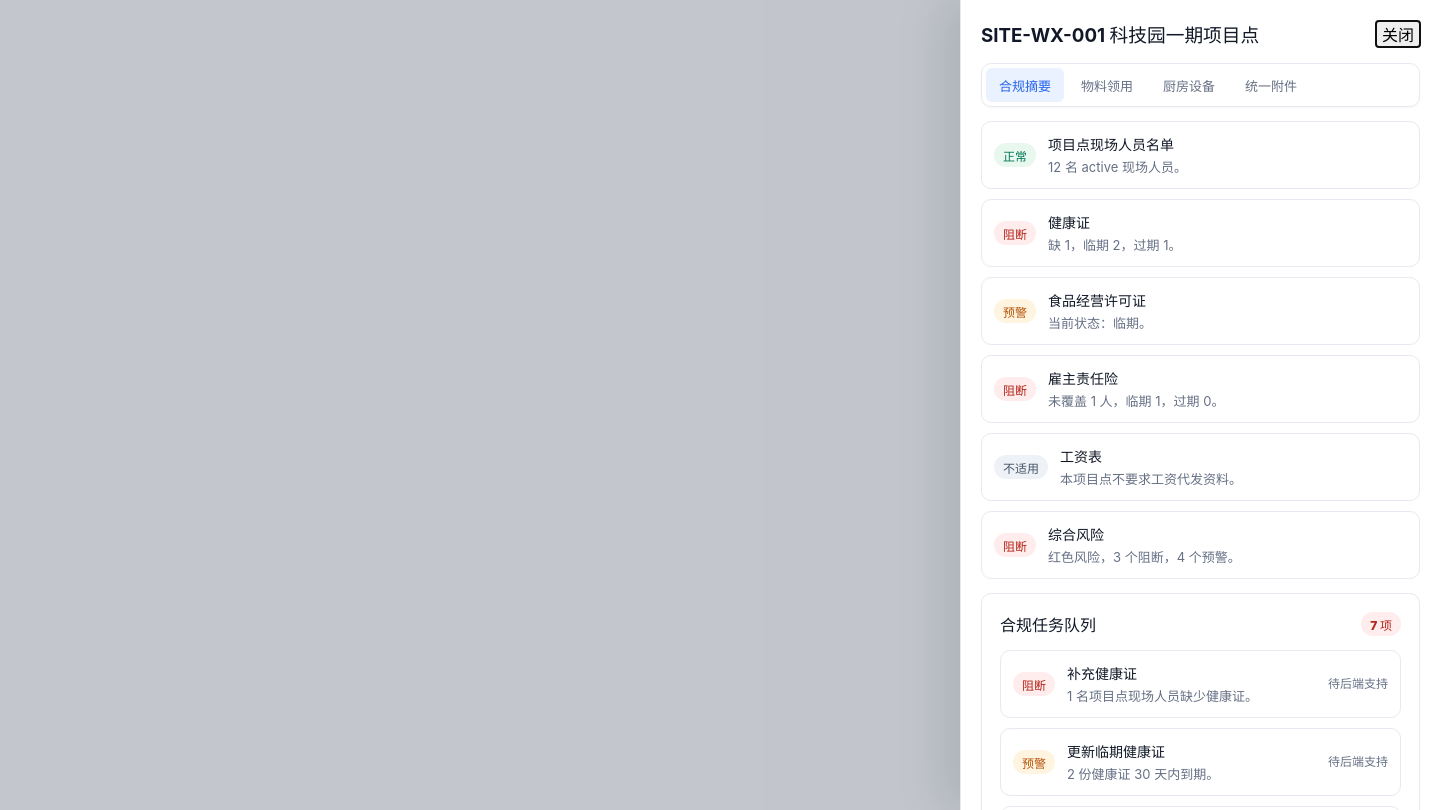
Test: project-sites business entry QA › keeps project-site details limited to real sections and unified attachment upload bounded
The image size is (1440, 810).
Expected: the tab "合规摘要" is shown, [986,68,1064,102]
Expected: the tab "物料领用" is shown, [1068,68,1146,102]
Click the tab "统一附件" at (1271, 85), box [1232,68,1310,102]
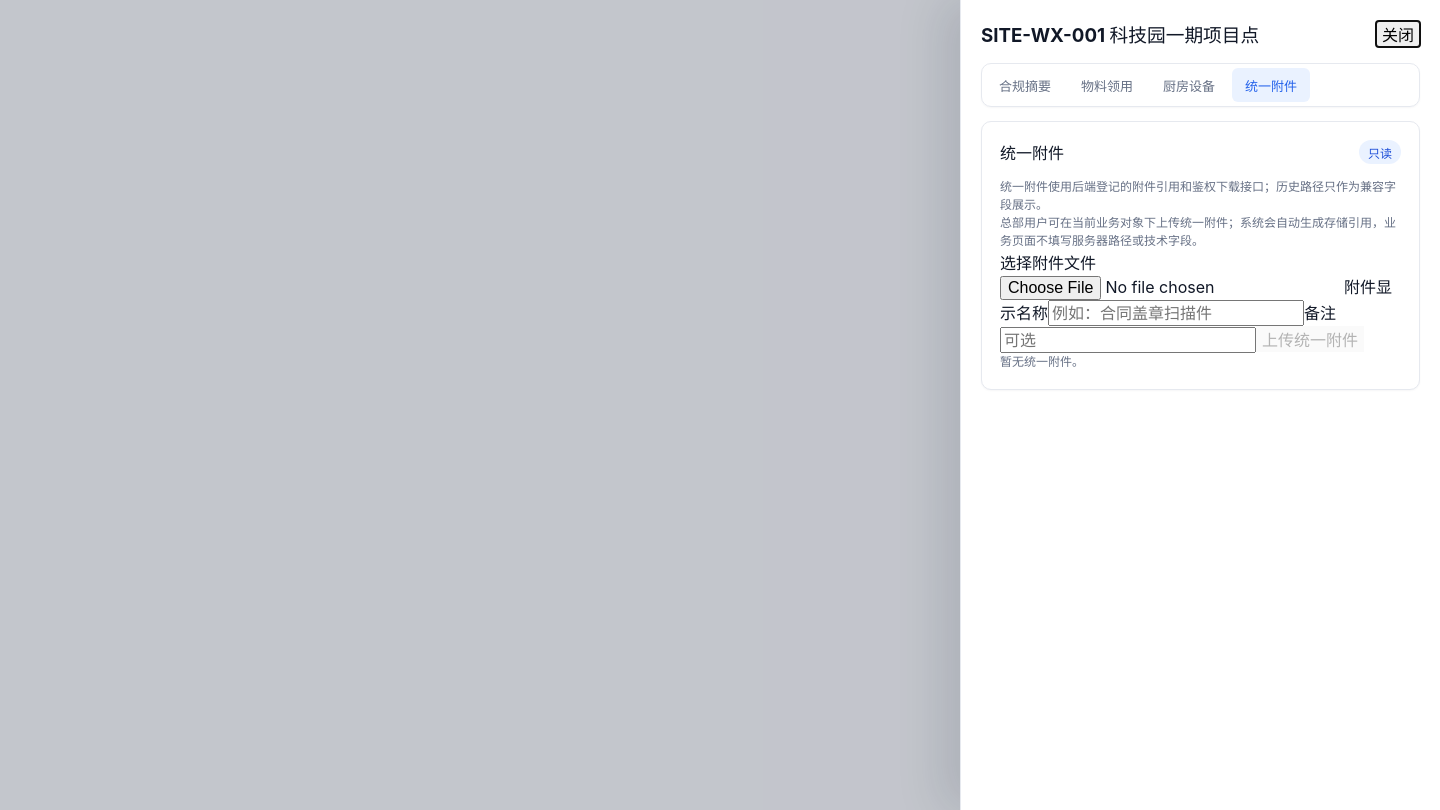
Result: the text "暂无统一附件。" is shown at [1000,354,1084,369]
Result: the text "总部用户可在当前业务对象下上传统一附件；系统会自动生成存储引用，业务页面不填写服务器路径或技术字段。" is shown at [1000,214,1401,250]
Result: the file field labelled "选择附件文件" is shown at [1000,276,1344,300]
